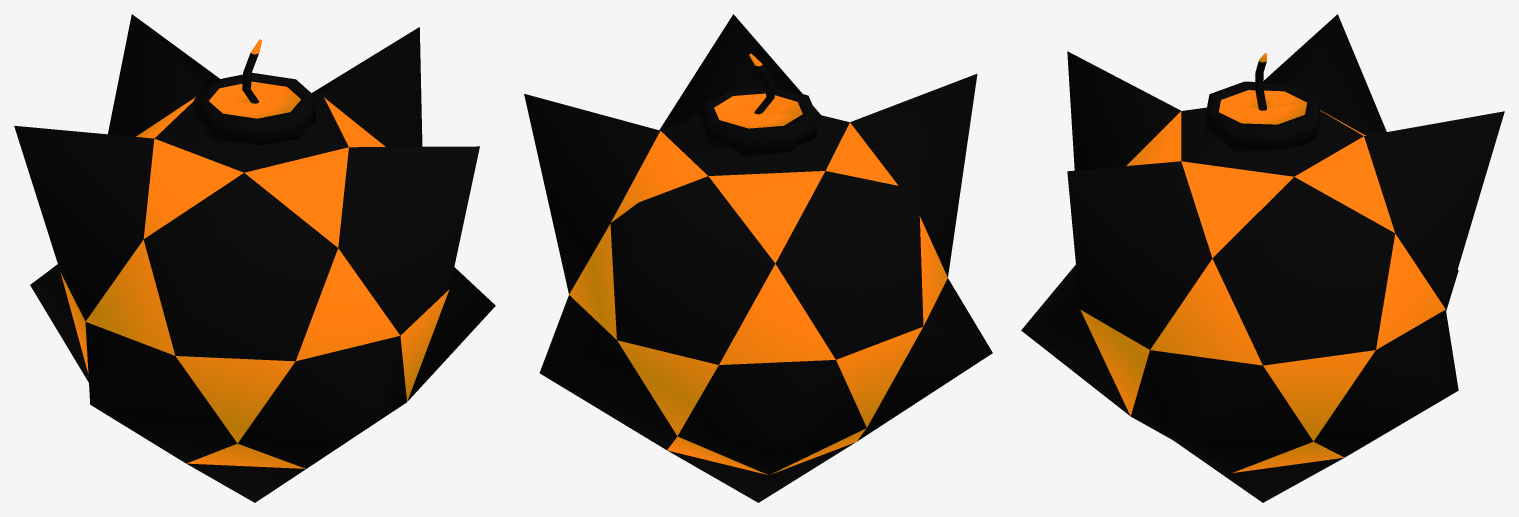
The model's file is track6Trap.glb.
3 renders of one model, left to right at view 1: azimuth 30°, elevation 25°; view 2: azimuth 150°, elevation 25°; view 3: azimuth 270°, elevation 25°, orthographic. The views are drawn at different scales.
Parts seen in each view (by area): view 1: Icosphere.001; view 2: Icosphere.001; view 3: Icosphere.001.
Boxes of the visible parts, box(x1,y1,x2,y2) form: Icosphere.001: box(14, 14, 495, 502); Icosphere.001: box(524, 14, 992, 502); Icosphere.001: box(1021, 14, 1504, 502).
Size of the model in its own units: 0.7439 by 0.8082 by 0.7822.
